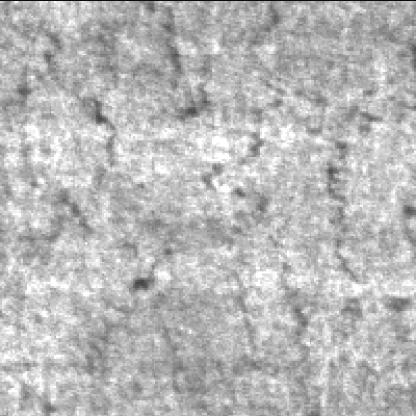crazing: (154, 0, 339, 191), (123, 231, 320, 387), (6, 17, 121, 237), (331, 85, 416, 334)
